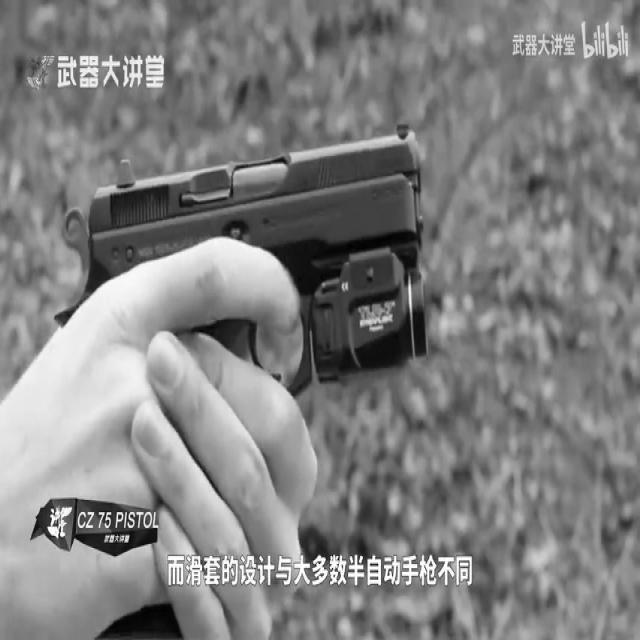Hand-Gun: (0, 0, 462, 640)
